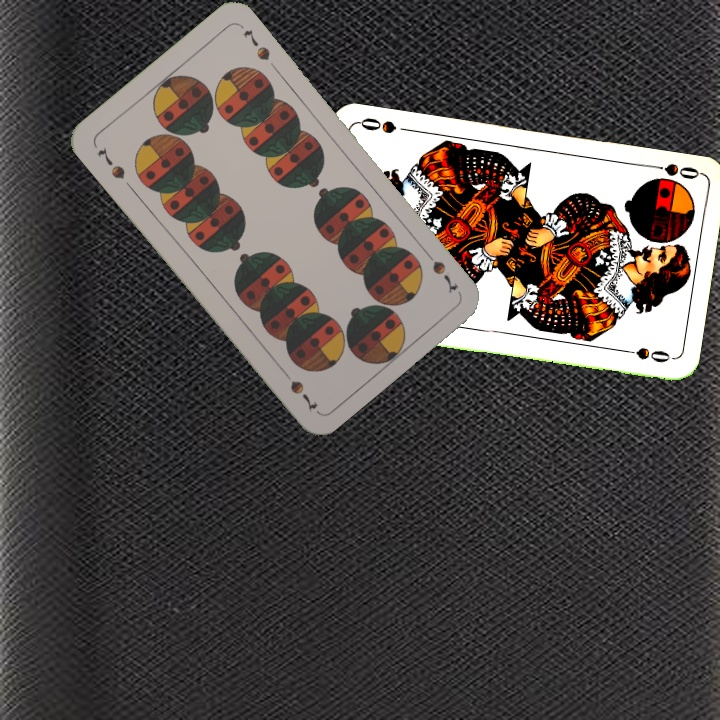S7: (419, 245, 461, 296), (93, 143, 128, 182)
SO: (642, 159, 702, 182)
